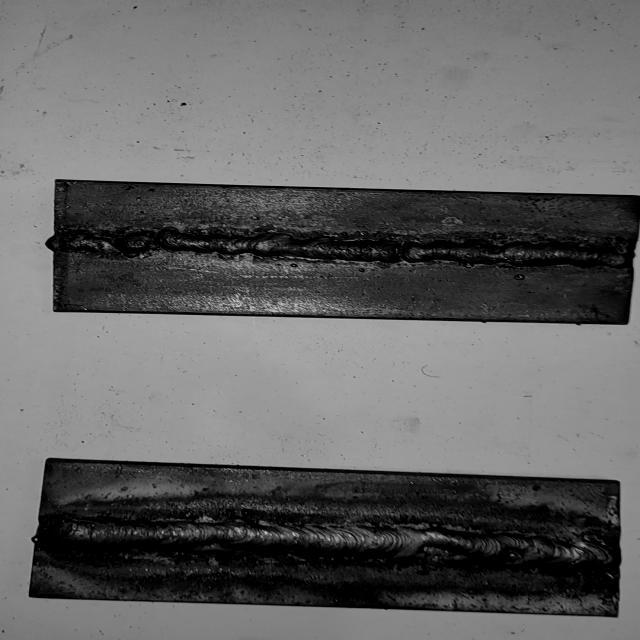Defect: (60, 224, 187, 264), (408, 532, 486, 574)
Welding Line: (38, 515, 616, 570), (52, 233, 633, 269)
Workpiece: (22, 456, 628, 622), (39, 173, 640, 332)
